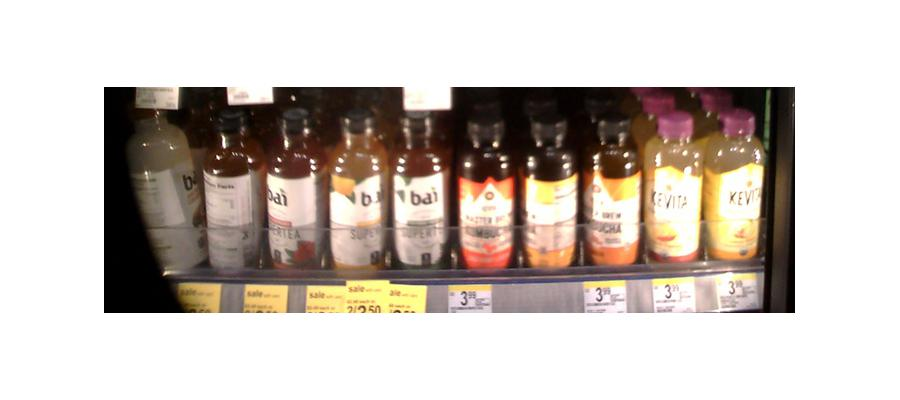bottle: (128, 106, 204, 277), (265, 103, 325, 273), (390, 110, 452, 271), (328, 107, 388, 272), (643, 107, 705, 265), (204, 108, 263, 273), (457, 111, 517, 272), (520, 113, 580, 271), (706, 107, 764, 267), (585, 116, 642, 270)
